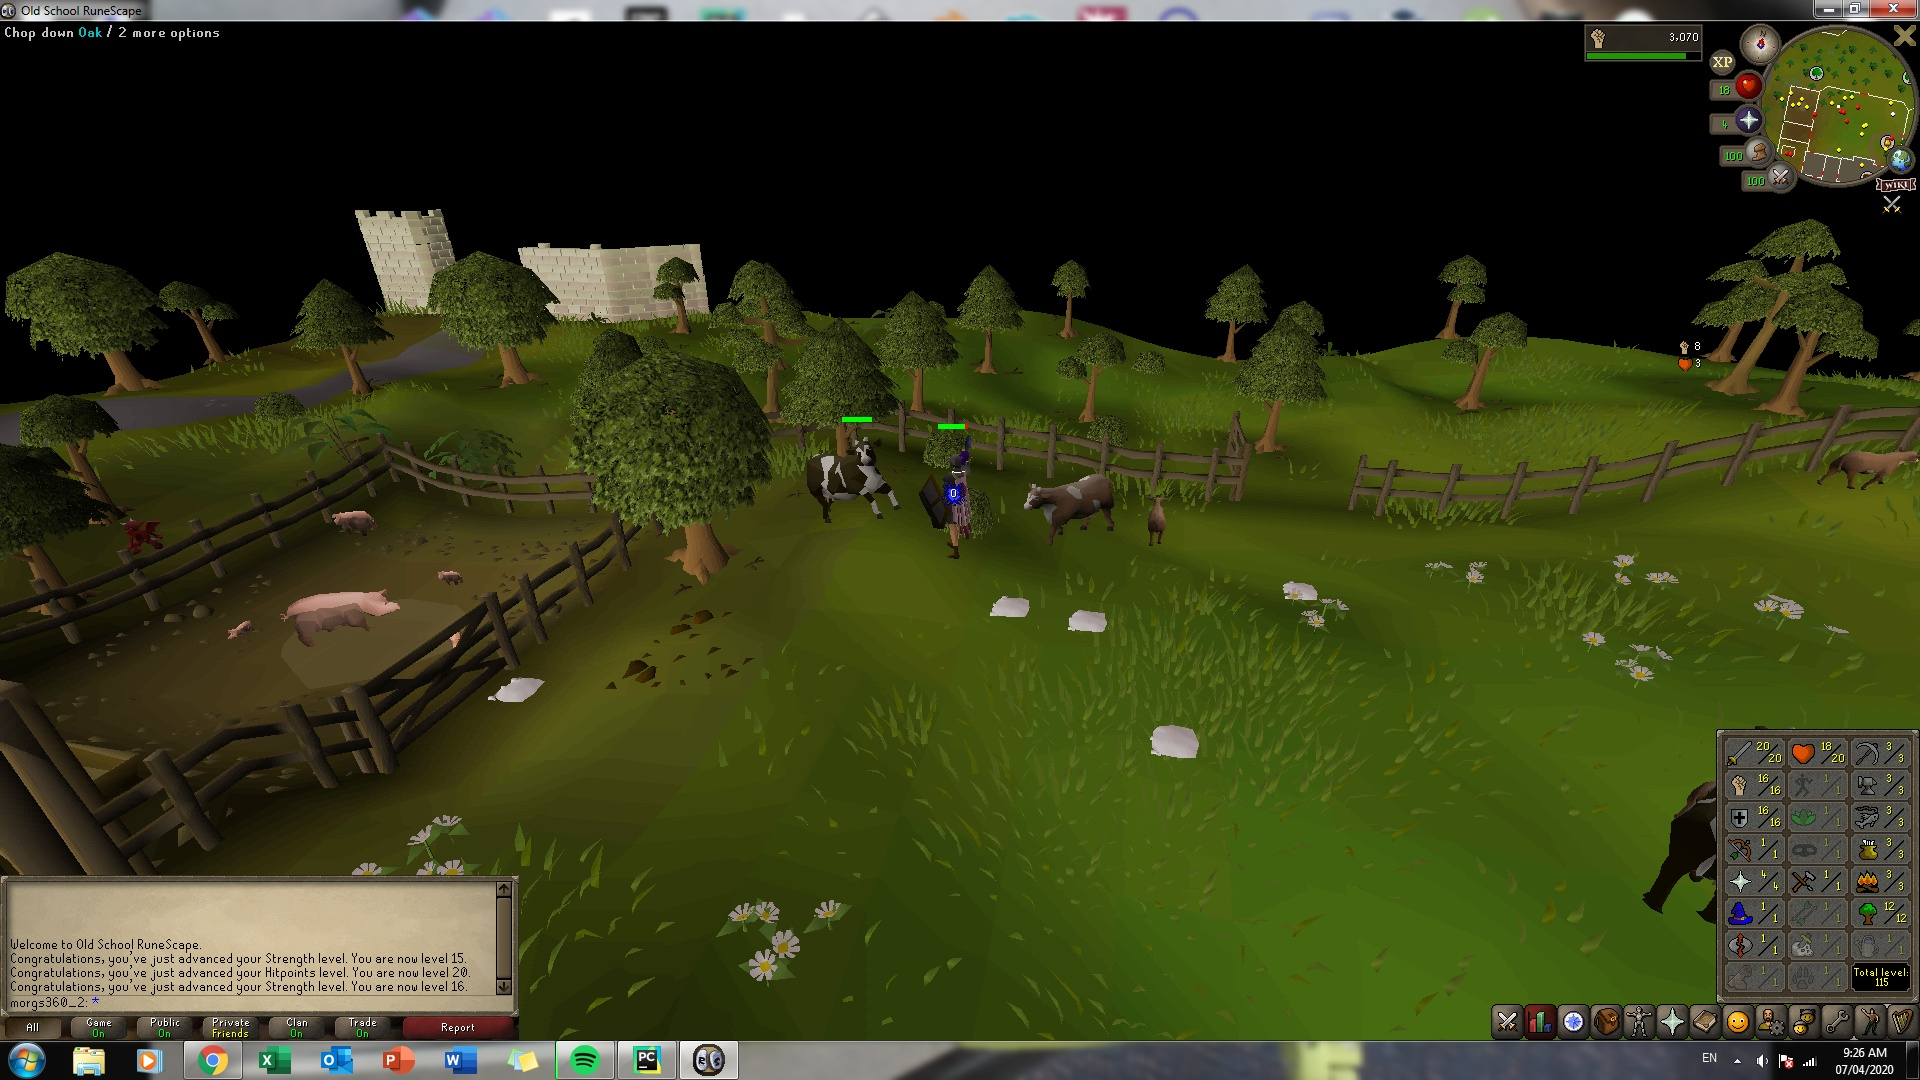cow: (1643, 764, 1717, 929), (1023, 464, 1120, 556), (800, 439, 902, 523), (1821, 442, 1914, 497), (1144, 494, 1169, 549)
player: (940, 447, 976, 560)
